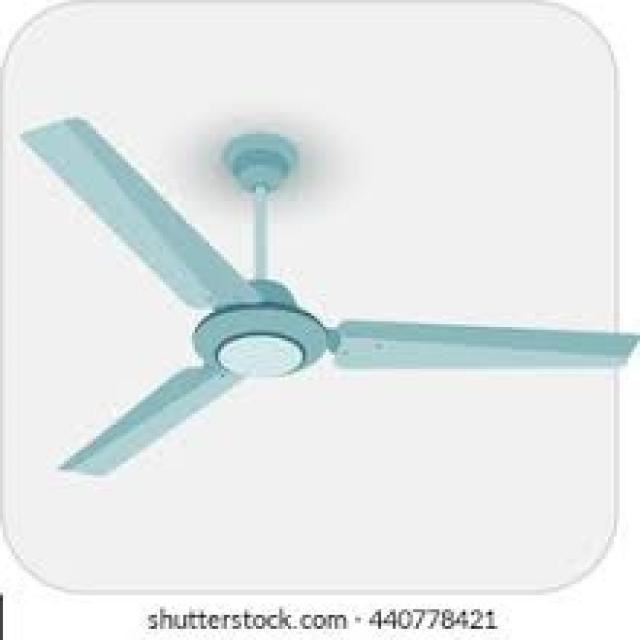fan_off: (20, 113, 635, 476)
